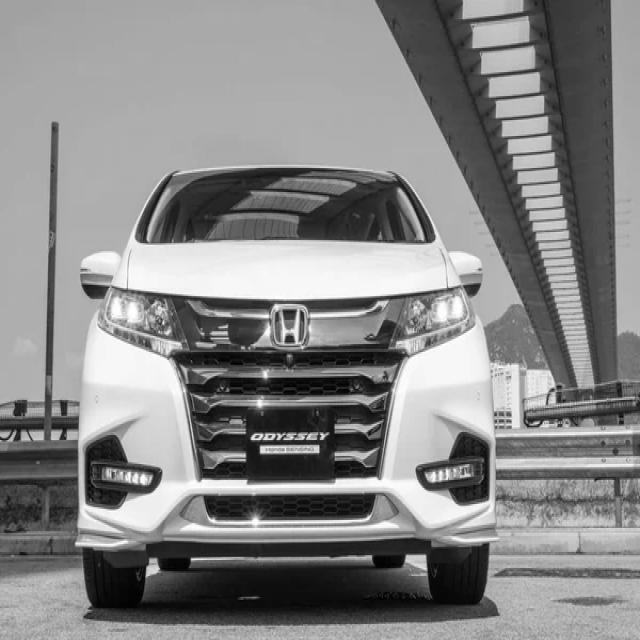Car: (76, 166, 498, 609)
